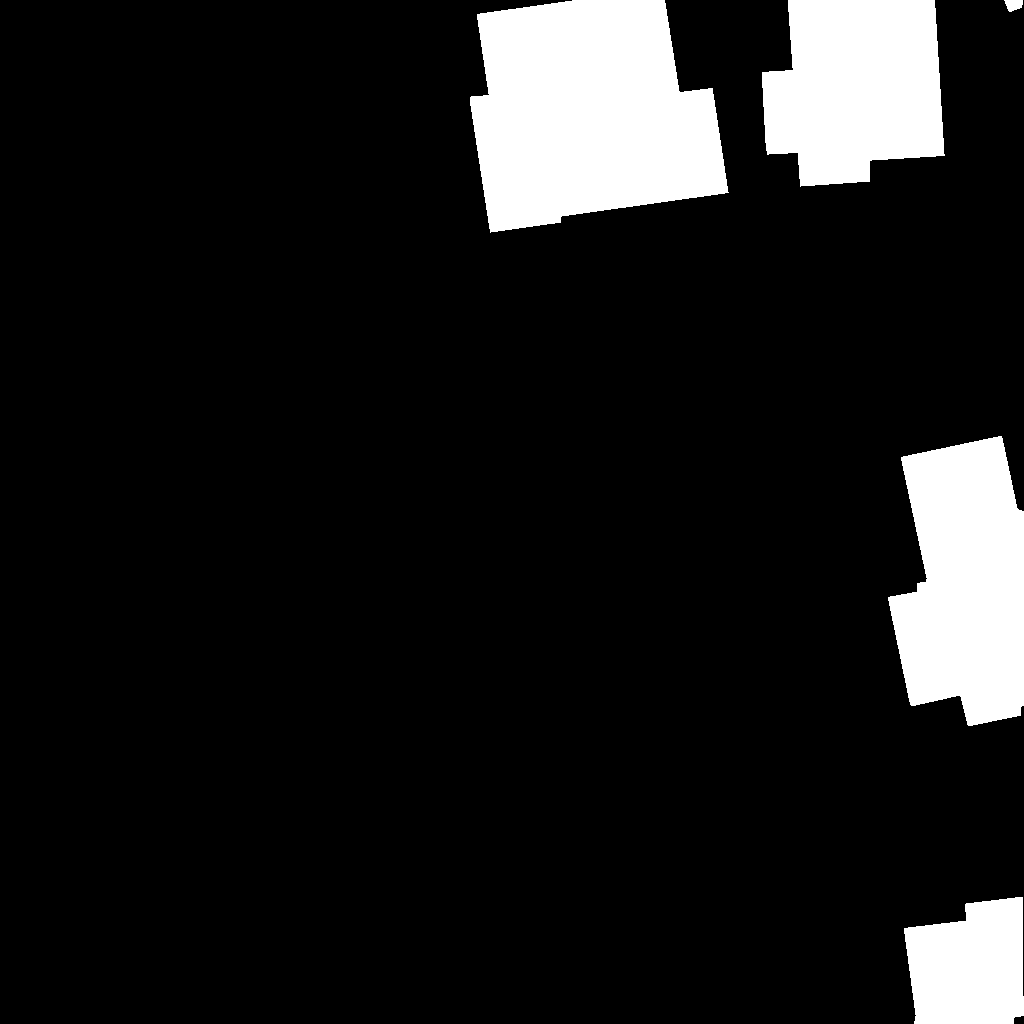building: (470, 0, 729, 233), (888, 436, 1024, 727), (762, 0, 945, 187), (904, 897, 1024, 1024), (1004, 0, 1024, 13)
